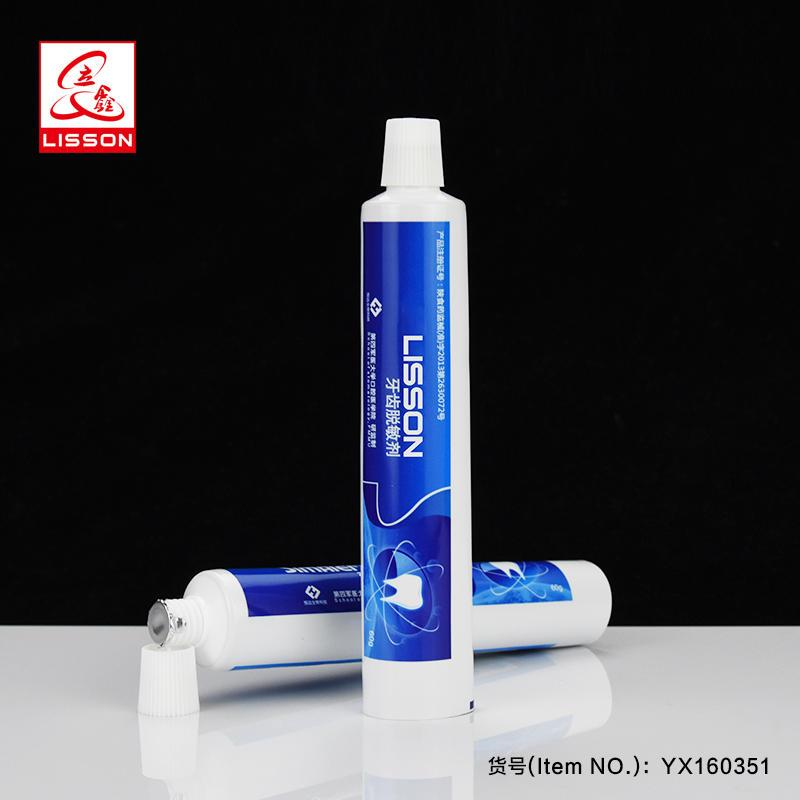toothpaste: (342, 102, 498, 737), (119, 543, 641, 682)
